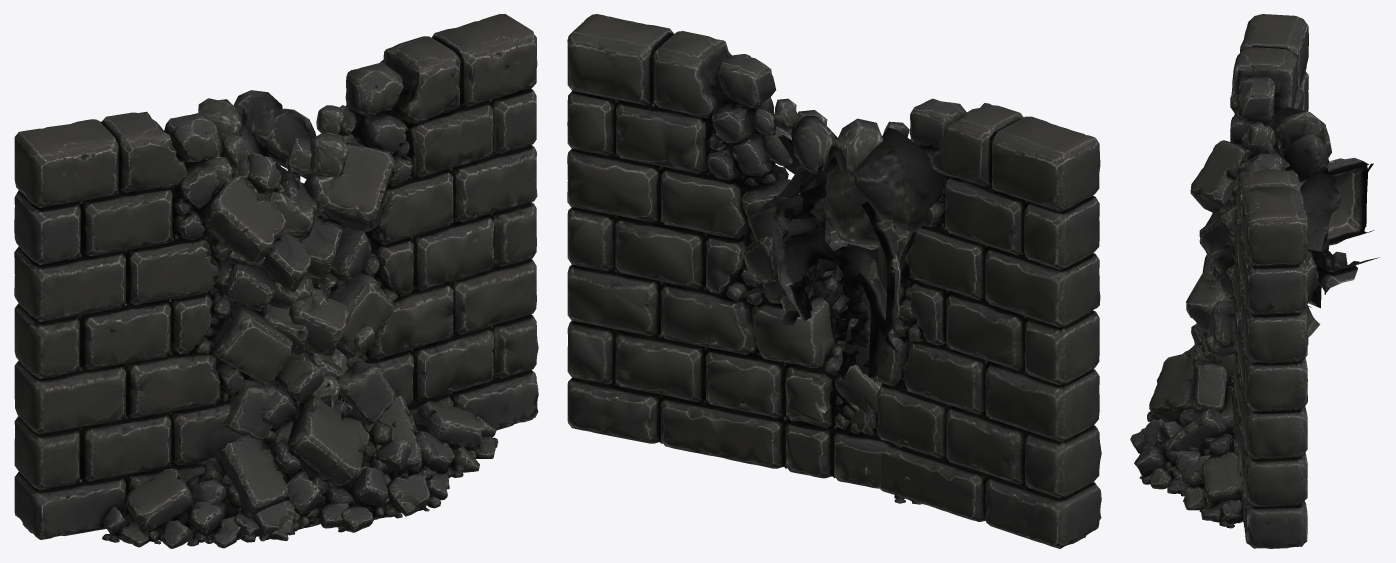
File: collapsed_wall_2.fbx
3 renders of one model, left to right at view 1: azimuth 30°, elevation 25°; view 2: azimuth 150°, elevation 25°; view 3: azimuth 270°, elevation 25°, orthographic. The views are drawn at different scales.
Visible parts, largest first — view 1: CollapsedWall; view 2: CollapsedWall; view 3: CollapsedWall.
Part boxes in pixels (x1,y1,x2,y2): CollapsedWall: (14, 14, 538, 548); CollapsedWall: (567, 14, 1101, 548); CollapsedWall: (1130, 14, 1379, 548).
Bounding box in the file's own units: 410 × 305 × 208.
Materials: 1 (1 with a texture image).
